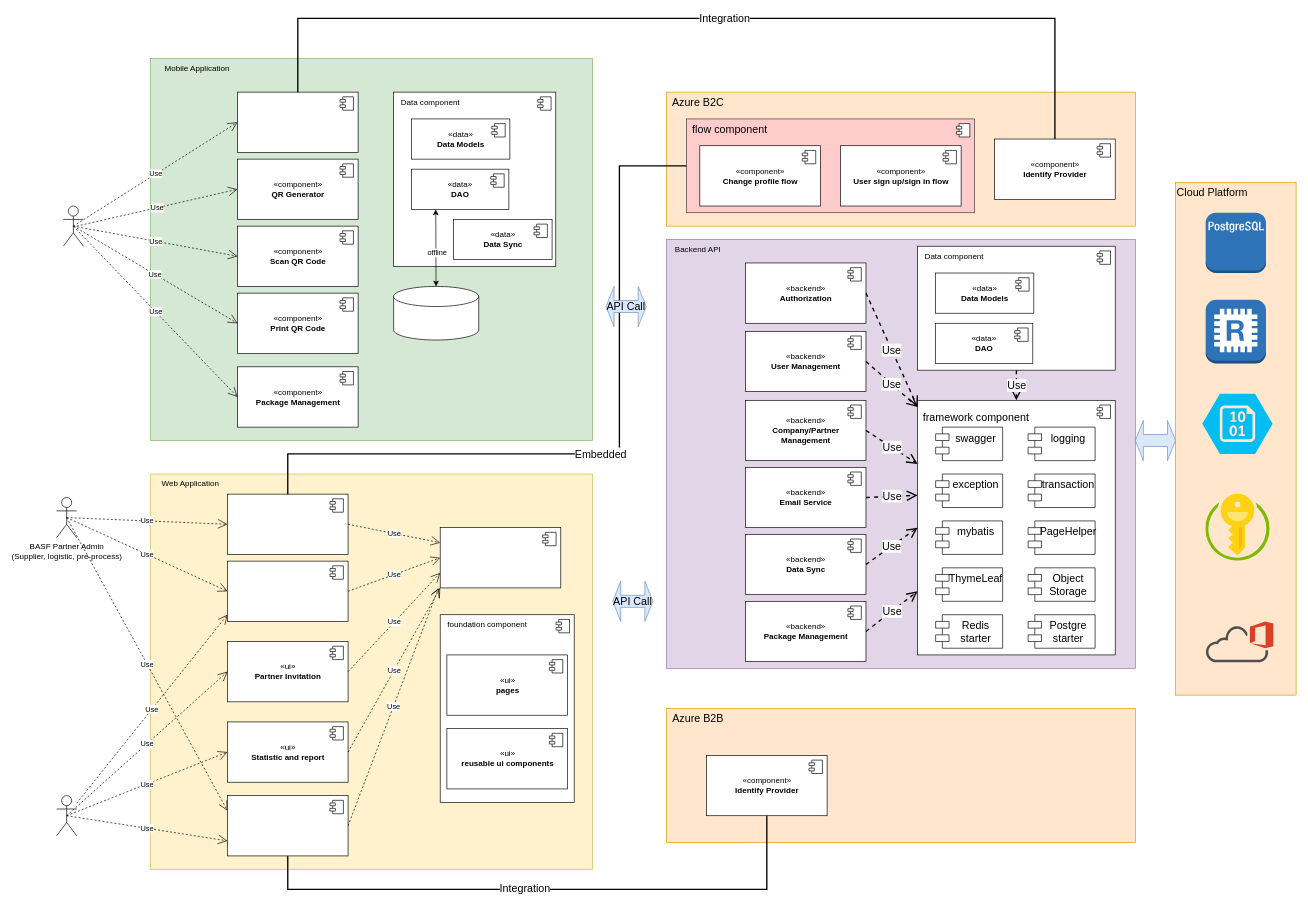
The diagram is 1308 pixels wide and 906 high, and some of its shapes have lost their labels. The shapes that lost their labels are listed below. From the top down, each one's box as (x1, y1, x2, y2) in pixels, then its label:
(237, 91, 358, 152): «component» Authentication/Authorization (B2C)
(63, 205, 83, 246): LMPC - Truck Driver LMPC - Goods Receipt LMPC - Production
(1205, 212, 1266, 273): Postgres DB
(393, 286, 479, 340): Realm DB
(1205, 299, 1266, 363): Redis
(1202, 393, 1272, 454): Azure Blob
(227, 493, 348, 554): «ui» User Management
(1205, 494, 1270, 561): Azure Key Vault
(440, 527, 561, 588): «component» API Services
(227, 560, 348, 621): «ui» Company Management
(1205, 621, 1273, 662): BASF Office 365
(56, 795, 77, 836): BASF Admin
(227, 795, 348, 856): «component» Authentication/Authorization (B2B)
